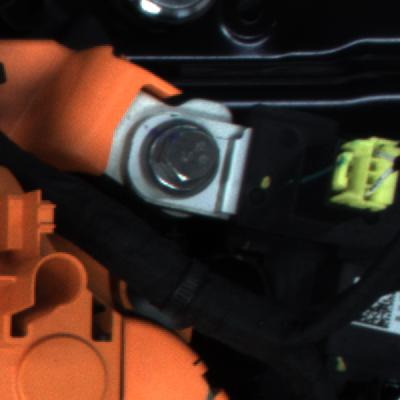nut_b: (133, 115, 242, 207)
